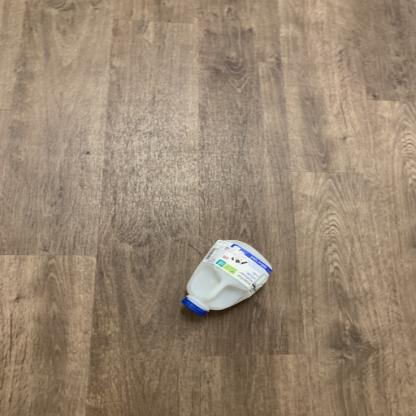trash: (178, 238, 277, 322)
